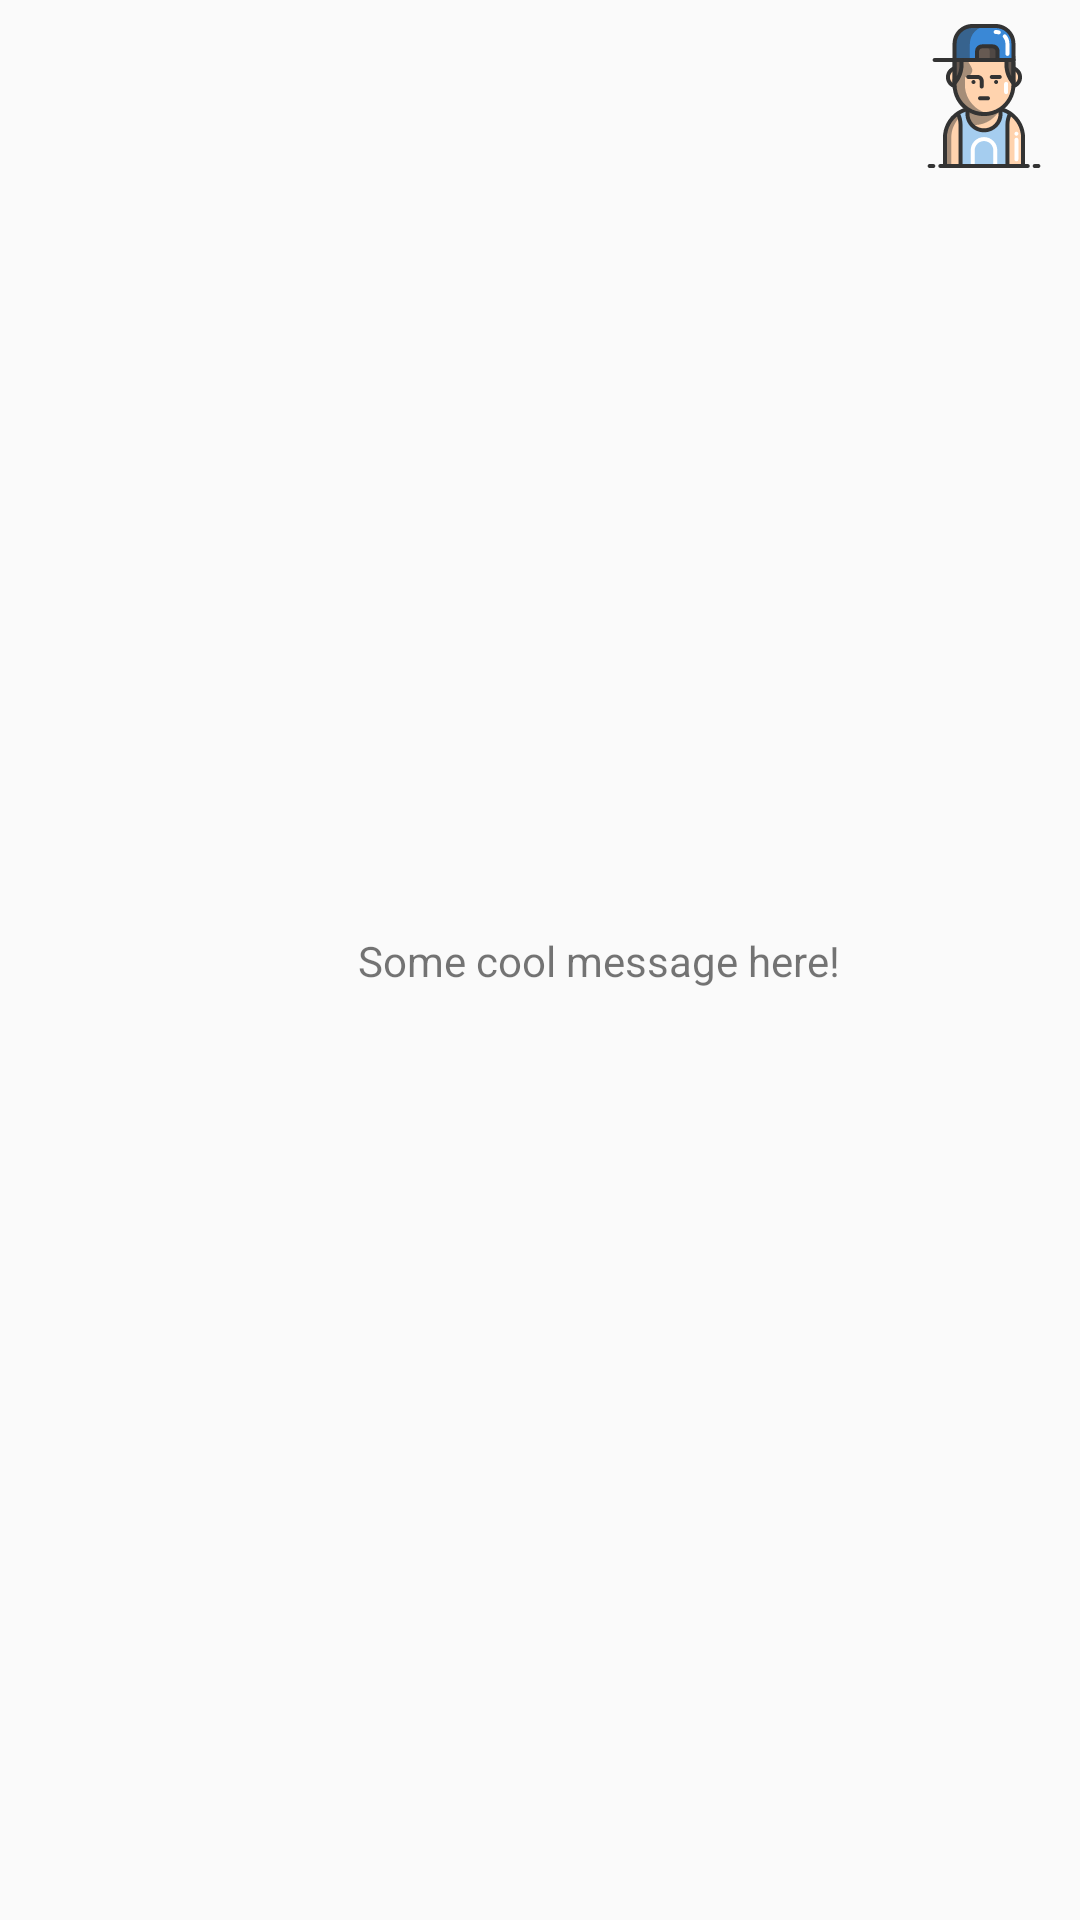

Icon bounding boxes for this 1080px x 1920px phone screenshot, format (x1, y1, x2, y2):
boy casual: (927, 24, 1041, 168)
